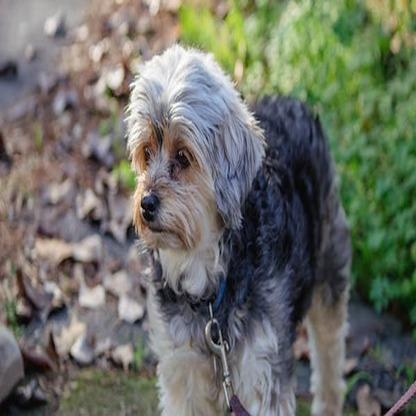yorkshire: (123, 43, 352, 415)
